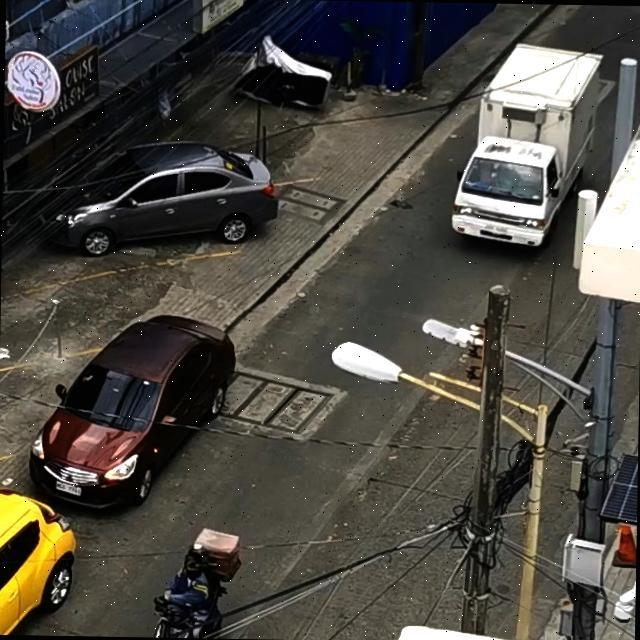Truck: (430, 15, 640, 287)
